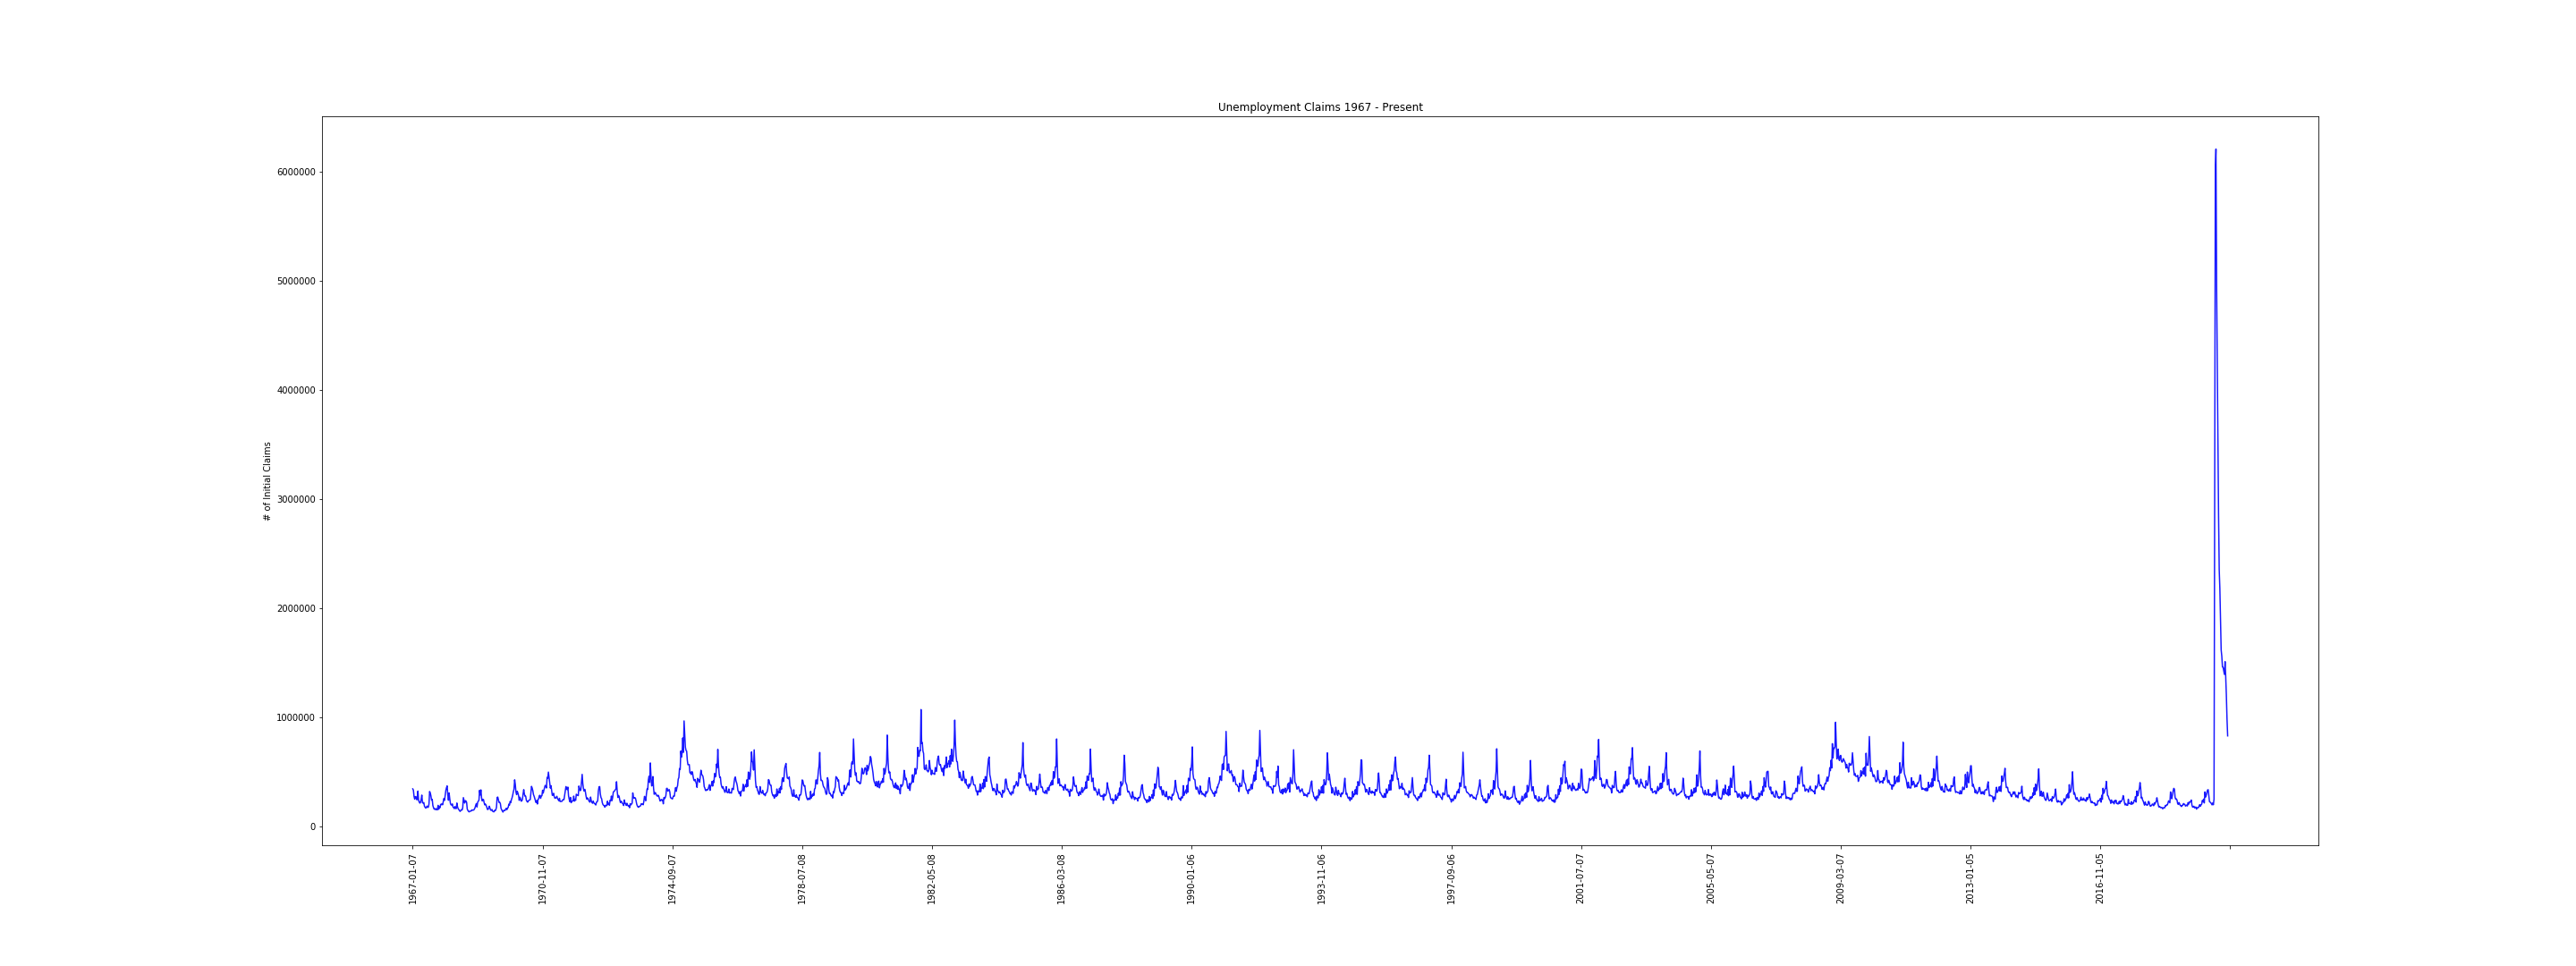

What the dashboard file says about the page in this screenshot:
{"tool":"powerbi","page":{"name":"Page 1","canvas":[1280,720],"ordinal":0},"visuals":[{"type":"lineChart","fields":{"Y":["Sum(ICNSA.ICNSA)"],"Category":["ICNSA.DATE"]},"box":[9.7,0,1233.3,650.7],"z":0}]}

Visuals, with their boxes on the page's 1280x720 design canvas (x1, y1, x2, y2). These are canvas units, not pixel positions in the 2576x966 screenshot, which may show the page scaled, cropped or inside an application window:
lineChart - Sum(ICNSA.ICNSA) x ICNSA.DATE: 10, 0, 1243, 651
